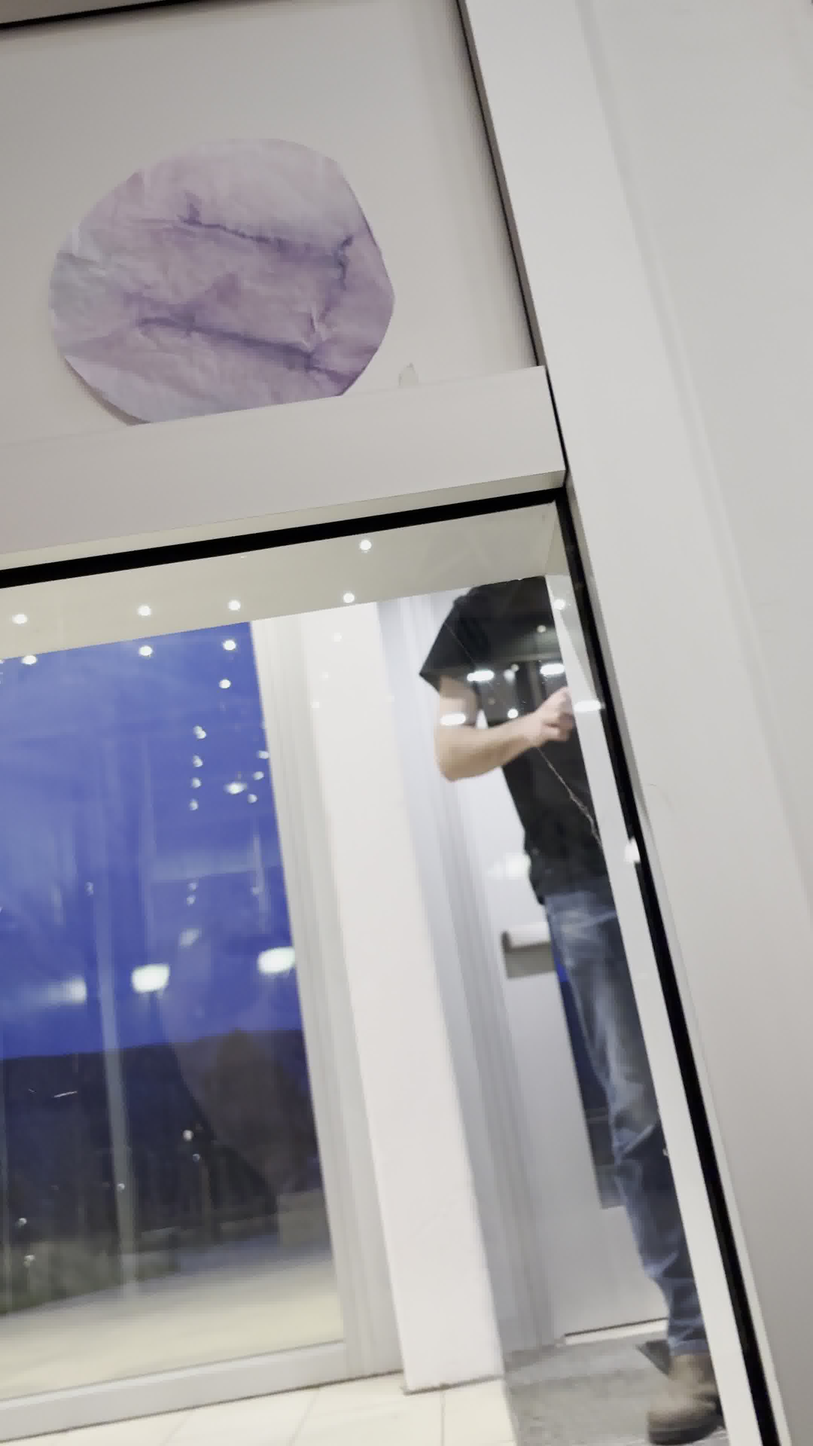Target: (31, 119, 406, 435)
